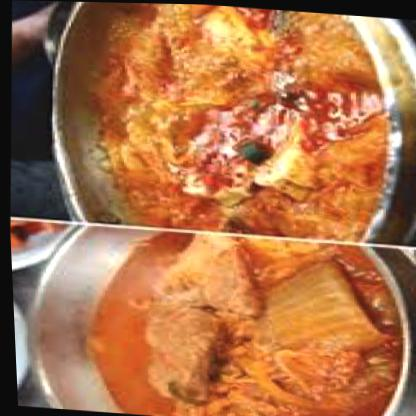Kimchi: (56, 1, 400, 242), (70, 222, 413, 415)
